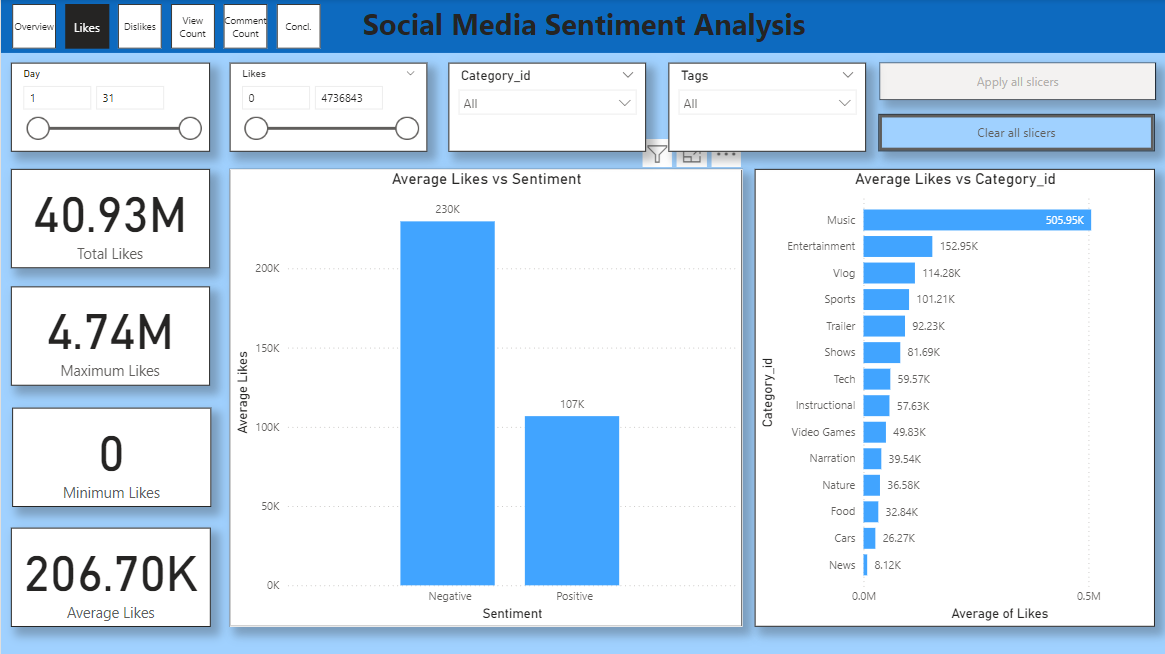

The dashboard page shown, as its layout file describes it:
{"tool":"powerbi","page":{"name":"Likes","canvas":[1280,720],"ordinal":1},"visuals":[{"type":"shape","box":[0,0,1280.3,59],"z":0},{"type":"textbox","box":[0,0,1280.3,59],"z":1000},{"type":"slicer","fields":{"Values":["gold_df (2).Published_at.Variation.Date Hierarchy.Day"]},"box":[11,70,218.2,97.4],"z":2000},{"type":"card","fields":{"Values":["Avg(gold_df (2).Likes)"]},"box":[11,580.4,219.6,108.4],"z":3000},{"type":"card","fields":{"Values":["Sum(gold_df (2).Likes)"]},"box":[11,186.6,218.2,108.4],"z":4000},{"type":"card","fields":{"Values":["Min(gold_df (2).Likes)"]},"box":[12.3,448.7,218.2,108.4],"z":5000},{"type":"card","fields":{"Values":["Max(gold_df (2).Likes)"]},"box":[11,315.6,218.2,108.4],"z":6000},{"type":"pageNavigator","box":[12.3,5.5,341,49.4],"z":7000},{"type":"slicer","fields":{"Values":["gold_df (2).Likes"]},"box":[251.1,70,216.8,97.4],"z":8000},{"type":"clusteredColumnChart","title":"Average Likes vs Sentiment","fields":{"Category":["gold_df (2).Sentiment"],"Y":["Avg(gold_df (2).Likes)"]},"box":[251.1,186.6,562.6,502.2],"z":9000},{"type":"clusteredBarChart","title":"Average Likes vs Category_id","fields":{"Y":["Avg(gold_df (2).Likes)"],"Category":["gold_df (2).Category_id"]},"box":[827.4,186.6,439.1,502.2],"z":10000},{"type":"actionButton","box":[964.7,70,303.3,41.2],"z":11000},{"type":"actionButton","box":[963.3,126.2,303.3,41.2],"z":12000},{"type":"slicer","fields":{"Values":["gold_df (2).Category_id"]},"box":[491.3,70,216.8,97.4],"z":13000},{"type":"slicer","fields":{"Values":["gold_df (2).Tags"]},"box":[732.8,70,216.8,97.4],"z":14000},{"type":"actionButton","box":[0,0,100,40],"z":15000}]}

Visuals, with their boxes in screenshot pixels (x1, y1, x2, y2), scaled from the page's 1280x720 canvas onto the 1165x654 screenshot:
shape: crop(0, 0, 1164, 54)
textbox: crop(0, 0, 1164, 54)
slicer - gold_df (2).Published_at.Variation.Date Hierarchy.Day: crop(10, 64, 209, 152)
card - Avg(gold_df (2).Likes): crop(10, 527, 210, 626)
card - Sum(gold_df (2).Likes): crop(10, 169, 209, 268)
card - Min(gold_df (2).Likes): crop(11, 408, 210, 506)
card - Max(gold_df (2).Likes): crop(10, 287, 209, 385)
pageNavigator: crop(11, 5, 322, 50)
slicer - gold_df (2).Likes: crop(229, 64, 426, 152)
"Average Likes vs Sentiment" clusteredColumnChart: crop(229, 169, 741, 626)
"Average Likes vs Category_id" clusteredBarChart: crop(753, 169, 1153, 626)
actionButton: crop(878, 64, 1154, 101)
actionButton: crop(877, 115, 1153, 152)
slicer - gold_df (2).Category_id: crop(447, 64, 644, 152)
slicer - gold_df (2).Tags: crop(667, 64, 864, 152)
actionButton: crop(0, 0, 91, 36)
